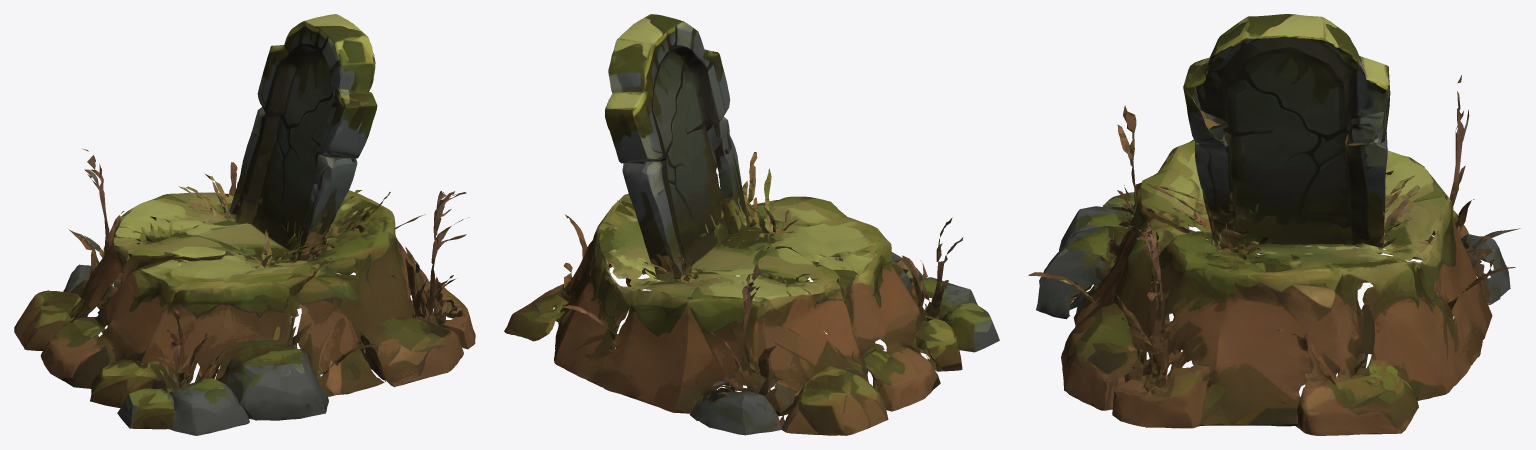
Rendered from ancient_grave.glb.
The picture shows the model from 3 angles, left to right: view 1: azimuth 30°, elevation 25°; view 2: azimuth 150°, elevation 25°; view 3: azimuth 270°, elevation 25°; orthographic projection. The views are drawn at different scales.
Parts seen in each view (by area): view 1: ancient_grave; view 2: ancient_grave; view 3: ancient_grave.
Part boxes in pixels (<box>): ancient_grave: <box>14,14,475,435</box>; ancient_grave: <box>504,14,999,435</box>; ancient_grave: <box>1028,14,1520,435</box>.
Size of the model in its own units: 2 by 1.49 by 1.86.
1 material, 1 textured.
